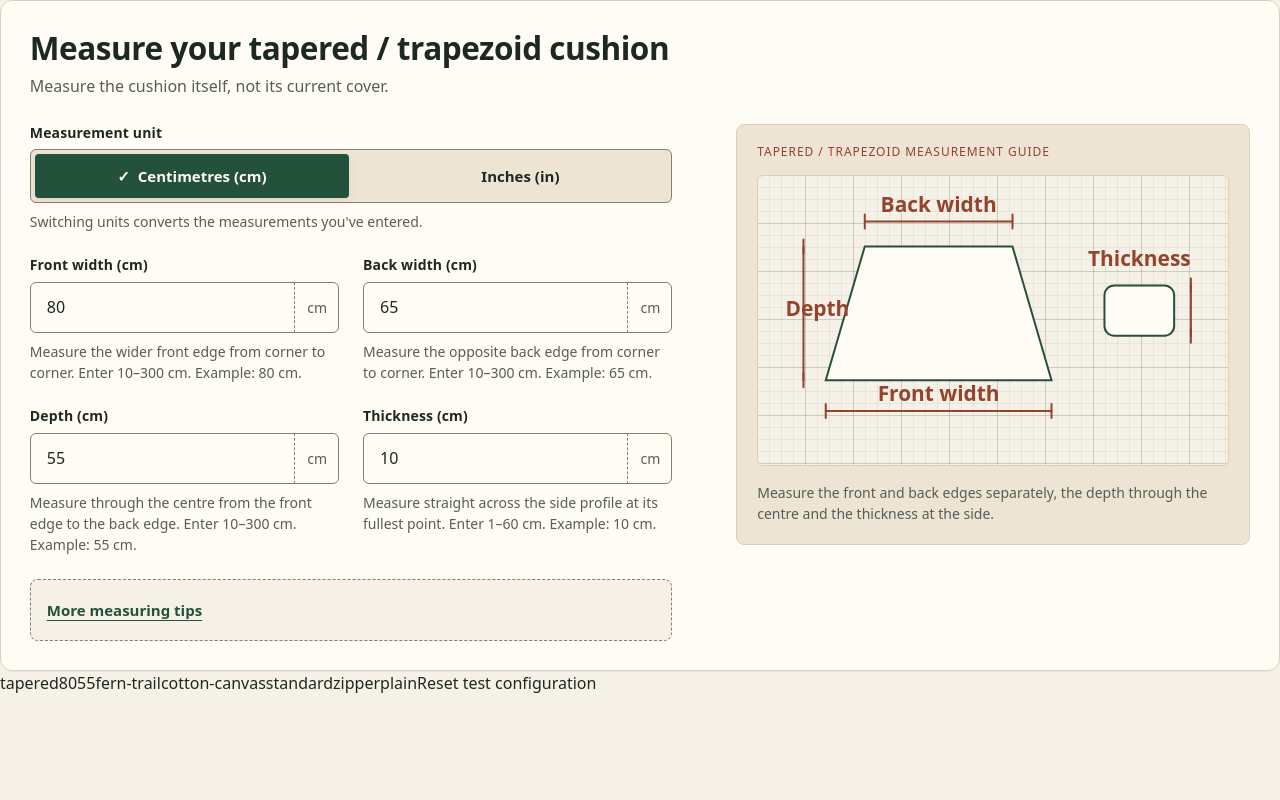
Scenario: associates tapered guidance and relationship errors with each measurement
The width and height of the screenshot is (1280, 800).
Expected: the field labelled "Depth (cm)" is shown, x1=30 y1=433 x2=339 y2=484
Click the heading "More measuring tips": click(124, 610) x1=47 y1=600 x2=202 y2=620
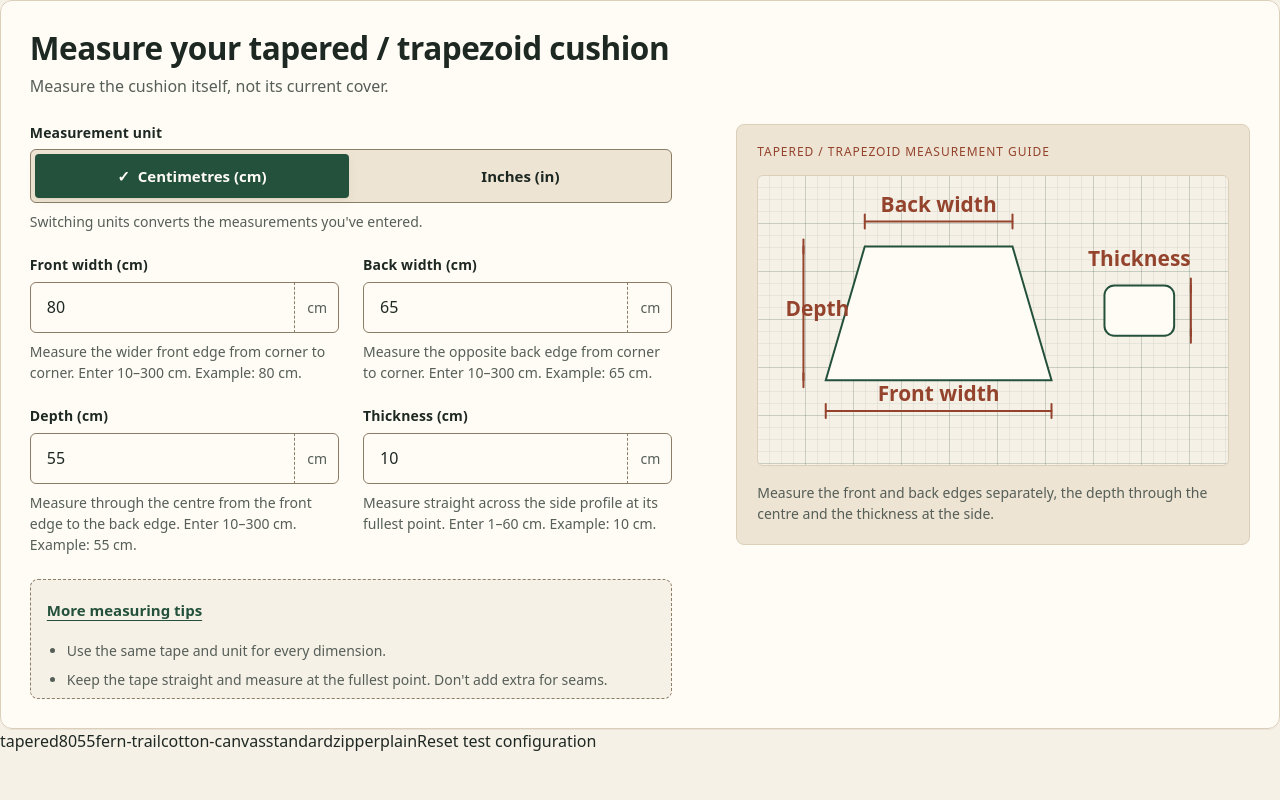
Replace the text in the field labelled "Back width (cm)" with "80": (518, 307) x1=363 y1=282 x2=672 y2=333
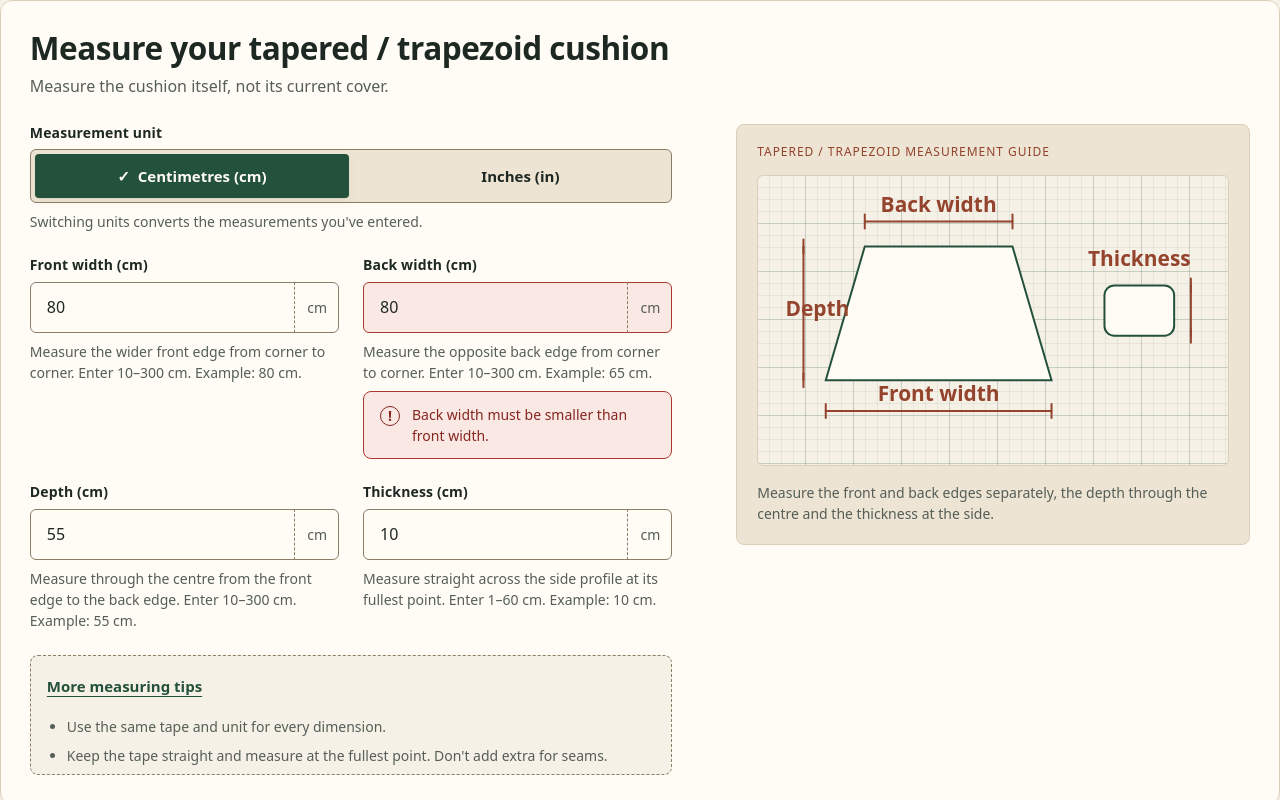
Expected: the message shows "smaller than front width", x1=412 y1=405 x2=627 y2=445
